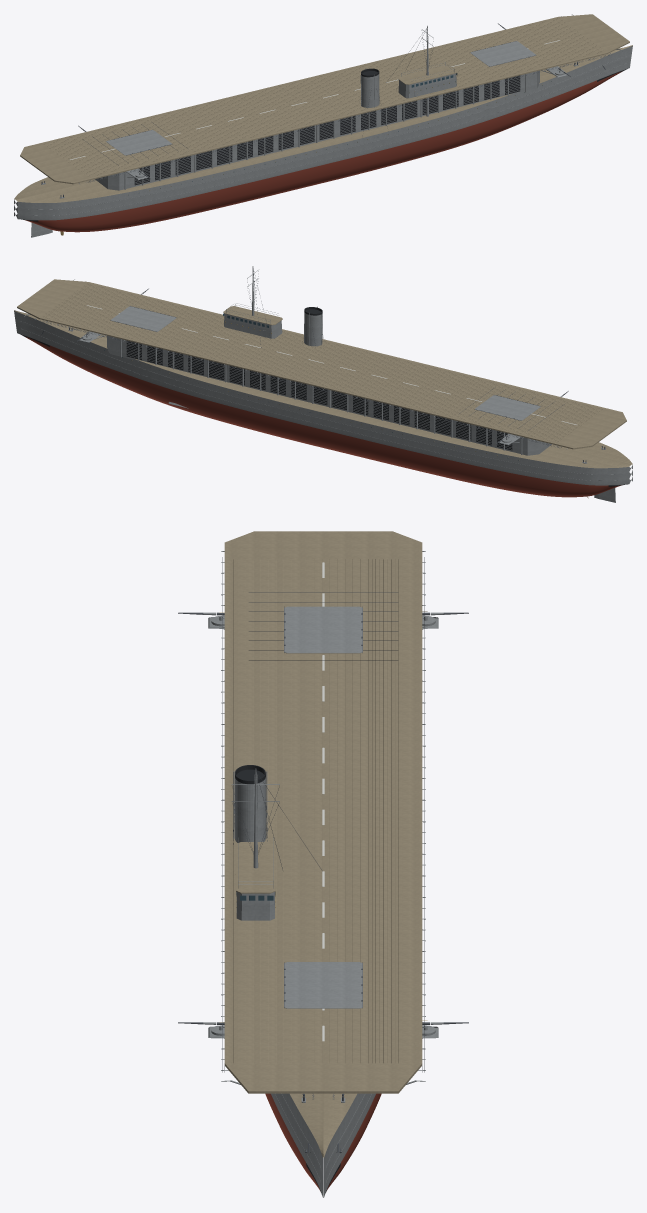
The model's file is fallback-cvl.glb.
3 views of the same model, one above another, from view 1: azimuth 30°, elevation 25°; view 2: azimuth 150°, elevation 25°; view 3: azimuth 270°, elevation 25° (orthographic). The views are drawn at different scales.
Visible parts, largest first — view 1: Original CVL custom-design concept; view 2: Original CVL custom-design concept; view 3: Original CVL custom-design concept.
Part boxes in pixels (bbox=[...]): Original CVL custom-design concept: bbox=[14, 14, 632, 237]; Original CVL custom-design concept: bbox=[14, 266, 632, 502]; Original CVL custom-design concept: bbox=[178, 531, 468, 1197].
Bounding box in the file's own units: 156 × 32.3 × 31.88.
Materials: 8 (2 with a texture image).
